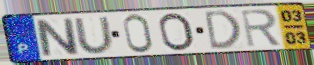0: (121, 12, 155, 55)
D: (203, 9, 242, 52)
N: (33, 17, 82, 58)
O: (157, 12, 197, 53)
R: (239, 8, 284, 49)
U: (72, 15, 117, 56)
